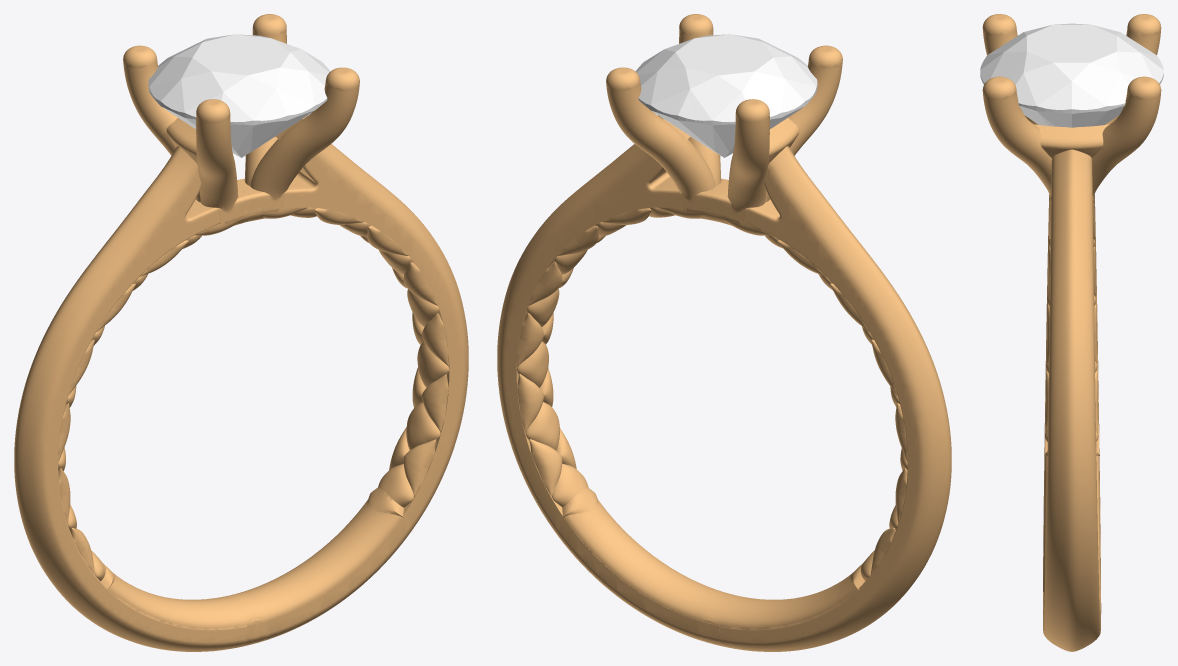
3 renders of one model, left to right at view 1: azimuth 30°, elevation 25°; view 2: azimuth 150°, elevation 25°; view 3: azimuth 270°, elevation 25°, orthographic.
Bounding box in the file's own units: 2.44 × 3.05 × 0.8681.
